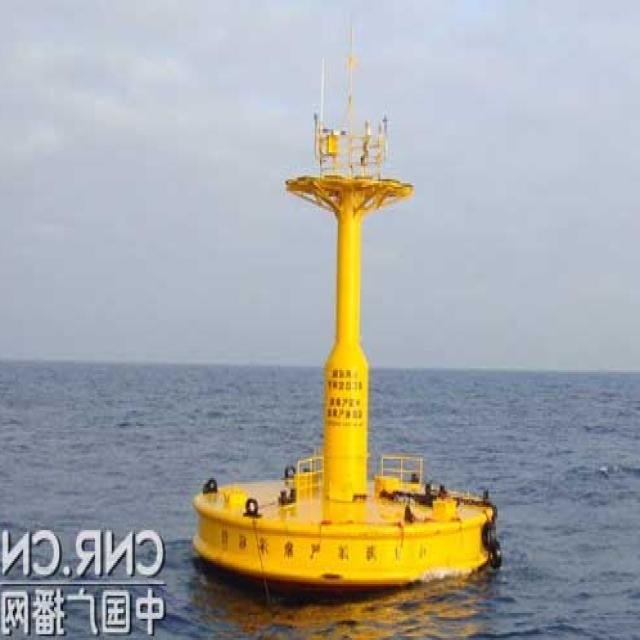buoy: (188, 32, 508, 600)
